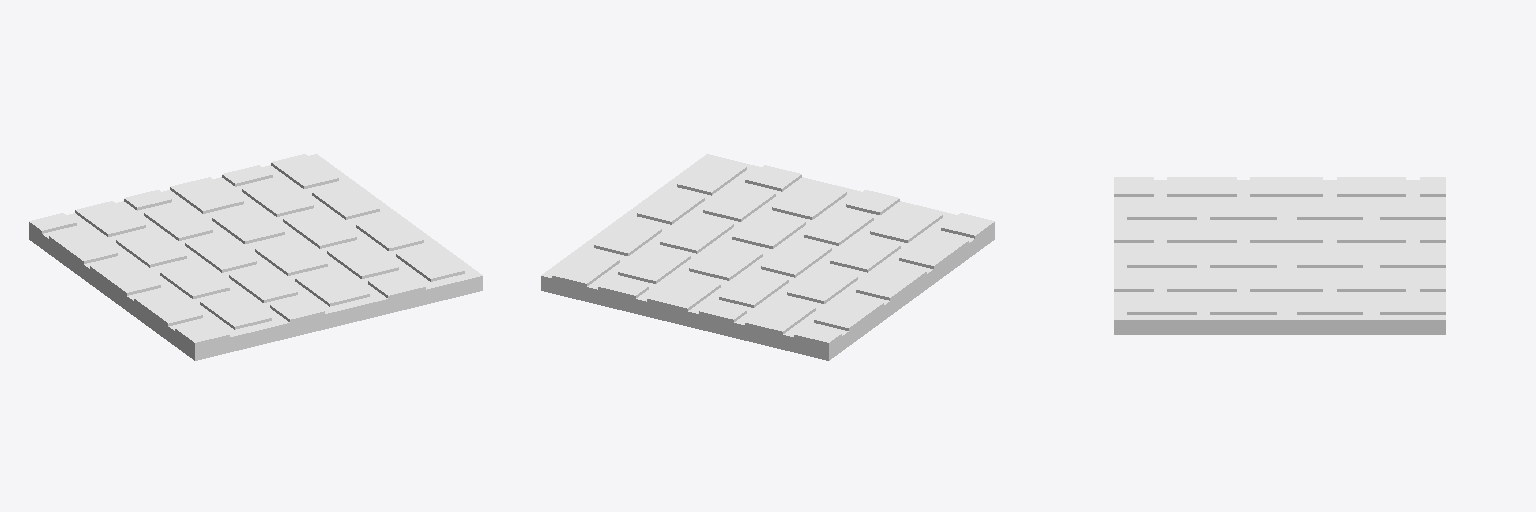
Rendered from basement_floor.obj.
3 renders of one model, left to right at view 1: azimuth 30°, elevation 25°; view 2: azimuth 150°, elevation 25°; view 3: azimuth 270°, elevation 25°, orthographic.
Bounding box in the file's own units: 100 × 6 × 100.